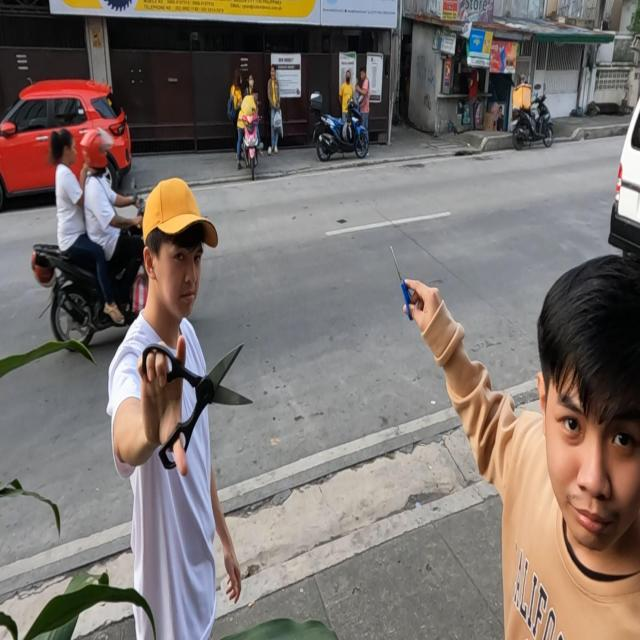scissor: (141, 341, 254, 474), (390, 245, 413, 322)
